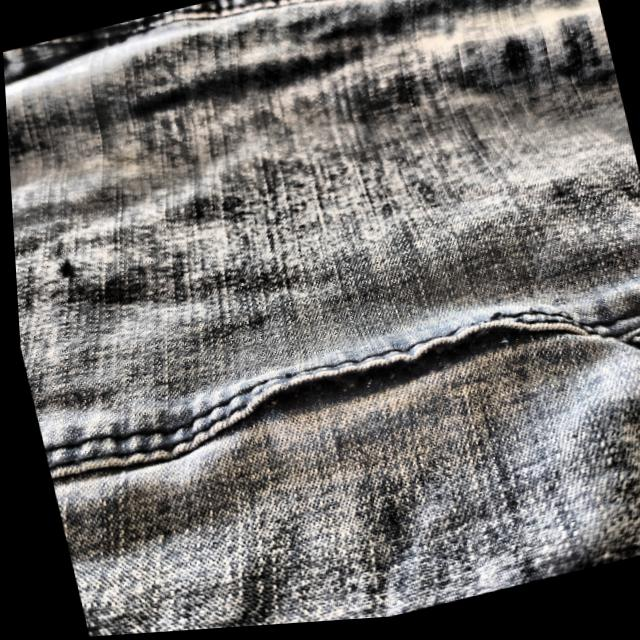seam: (160, 290, 595, 465)
